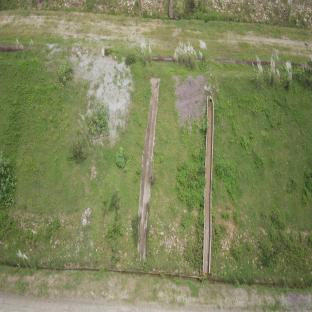slope_drain: (136, 77, 161, 262), (203, 98, 215, 272)
toe_drain: (0, 260, 311, 292)
vegetation: (179, 125, 205, 270), (260, 214, 306, 270), (255, 54, 293, 95), (1, 212, 57, 239), (171, 41, 212, 76), (217, 160, 239, 204), (1, 153, 17, 209), (89, 104, 110, 142)
